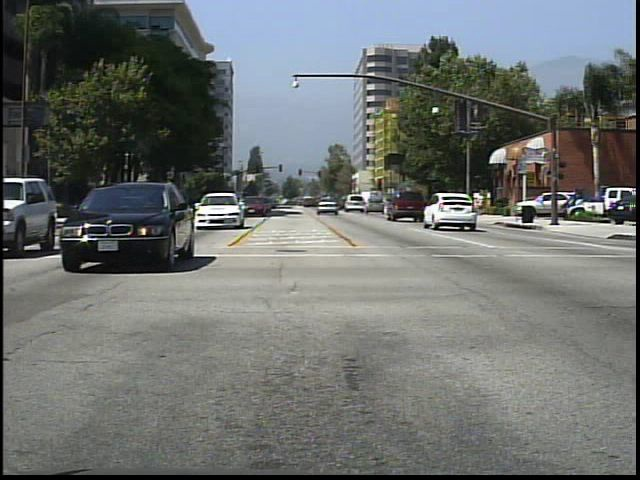person: (473, 190, 486, 218)
